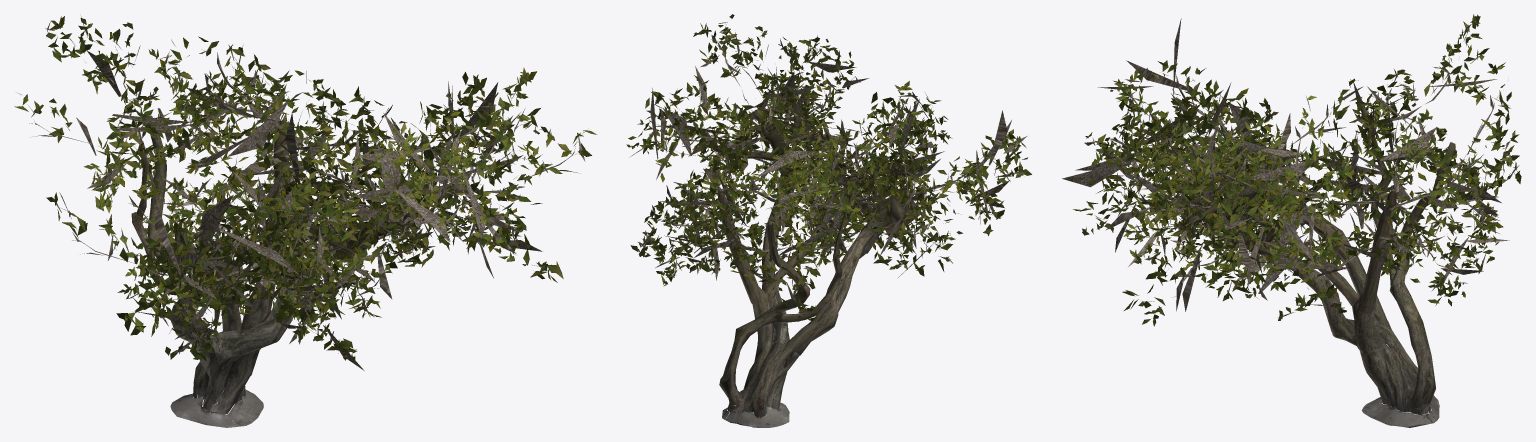
The model's file is oak.glb.
3 renders of one model, left to right at view 1: azimuth 30°, elevation 25°; view 2: azimuth 150°, elevation 25°; view 3: azimuth 270°, elevation 25°, orthographic. The views are drawn at different scales.
Parts seen in each view (by area): view 1: island_tree_02_LOD0; view 2: island_tree_02_LOD0; view 3: island_tree_02_LOD0.
Part boxes in pixels (<box>): island_tree_02_LOD0: <box>14,16,596,427</box>; island_tree_02_LOD0: <box>626,14,1031,427</box>; island_tree_02_LOD0: <box>1062,14,1521,427</box>.
Size of the model in its own units: 3.93 by 3.41 by 4.12.
Materials: 3 (3 with a texture image).
